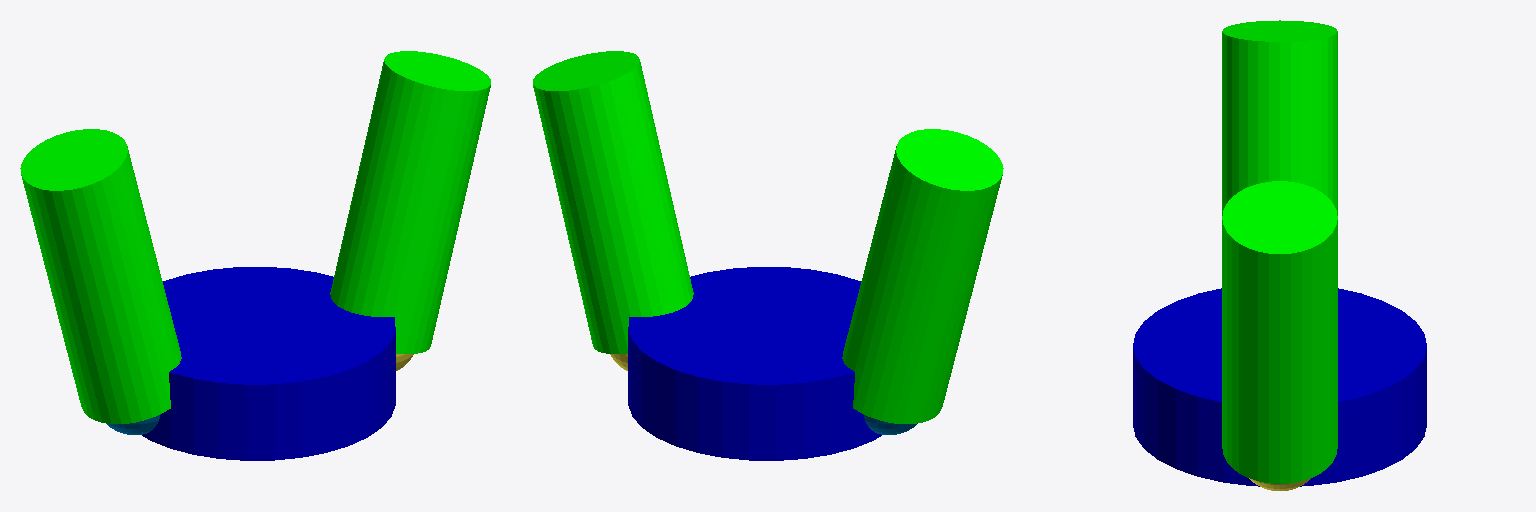
robot.urdf — gripper_2f_1j:
<?xml version='1.0' encoding='UTF-8'?>
<robot name="gripper_2f_1j">
  <link name="palm">
    <inertial>
      <origin xyz="0.0 0.0 0.0" rpy="0.0 -0.0 0.0"/>
      <mass value="1.0"/>
      <inertia ixx="1.0" ixy="0.0" ixz="0.0" iyy="1.0" iyz="0.0" izz="1.0"/>
    </inertial>
    <visual>
      <geometry>
        <cylinder radius="0.05" length="0.03"/>
      </geometry>
      <material name="blue"/>
      <origin xyz="0.0 0.0 0.0" rpy="0.0 -0.0 0.0"/>
    </visual>
    <collision>
      <geometry>
        <cylinder radius="0.05" length="0.03"/>
      </geometry>
      <origin xyz="0.0 0.0 0.0" rpy="0.0 0.0 0.0"/>
    </collision>
  </link>
  <link name="f11">
    <inertial>
      <origin xyz="0.0 0.0 0.0" rpy="0.0 -0.0 0.0"/>
      <mass value="1.0"/>
      <inertia ixx="1.0" ixy="0.0" ixz="0.0" iyy="1.0" iyz="0.0" izz="1.0"/>
    </inertial>
    <visual>
      <geometry>
        <cylinder radius="0.019643981786457196" length="0.1009418164024116"/>
      </geometry>
      <material name="green"/>
      <origin xyz="0.0 0.0 0.0504709082012058" rpy="0.0 -0.0 0.0"/>
    </visual>
    <collision>
      <geometry>
        <cylinder radius="0.019643981786457196" length="0.1009418164024116"/>
      </geometry>
      <origin xyz="0.0 0.0 0.05" rpy="0.0 0.0 0.0"/>
    </collision>
  </link>
  <link name="f21">
    <inertial>
      <origin xyz="0.0 0.0 0.0" rpy="0.0 -0.0 0.0"/>
      <mass value="1.0"/>
      <inertia ixx="1.0" ixy="0.0" ixz="0.0" iyy="1.0" iyz="0.0" izz="1.0"/>
    </inertial>
    <visual>
      <geometry>
        <cylinder radius="0.019643981786457196" length="0.1009418164024116"/>
      </geometry>
      <material name="green"/>
      <origin xyz="0.0 0.0 0.0504709082012058" rpy="0.0 -0.0 0.0"/>
    </visual>
    <collision>
      <geometry>
        <cylinder radius="0.019643981786457196" length="0.1009418164024116"/>
      </geometry>
      <origin xyz="0.0 0.0 0.05" rpy="0.0 0.0 0.0"/>
    </collision>
  </link>
  <link name="f11_base">
    <inertial>
      <origin xyz="0.0 0.0 0.0" rpy="0.0 -0.0 0.0"/>
      <mass value="1.0"/>
      <inertia ixx="1.0" ixy="0.0" ixz="0.0" iyy="1.0" iyz="0.0" izz="1.0"/>
    </inertial>
    <visual>
      <geometry>
        <sphere radius="0.015"/>
      </geometry>
      <origin xyz="0.0 0.0 0.0" rpy="0.0 -0.0 0.0"/>
    </visual>
  </link>
  <link name="f21_base">
    <inertial>
      <origin xyz="0.0 0.0 0.0" rpy="0.0 -0.0 0.0"/>
      <mass value="1.0"/>
      <inertia ixx="1.0" ixy="0.0" ixz="0.0" iyy="1.0" iyz="0.0" izz="1.0"/>
    </inertial>
    <visual>
      <geometry>
        <sphere radius="0.015"/>
      </geometry>
      <origin xyz="0.0 0.0 0.0" rpy="0.0 -0.0 0.0"/>
    </visual>
  </link>
  <joint name="f11_joint" type="revolute">
    <dynamics damping="100.0" friction="1.0"/>
    <limit effort="30.0" velocity="2.0" lower="-0.6" upper="0.25"/>
    <parent link="f11_base"/>
    <child link="f11"/>
    <axis xyz="0. 1. 0."/>
    <origin xyz="0.0 0.0 0.0" rpy="0.0 0.25 0.0"/>
  </joint>
  <joint name="f21_joint" type="revolute">
    <dynamics damping="100.0" friction="1.0"/>
    <limit effort="30.0" velocity="2.0" lower="-0.6" upper="0.25"/>
    <parent link="f21_base"/>
    <child link="f21"/>
    <axis xyz=" 0. -1.  0."/>
    <origin xyz="0.0 0.0 0.0" rpy="0.0 -0.25 0.0"/>
  </joint>
  <joint name="f11_base_joint" type="fixed">
    <parent link="palm"/>
    <child link="f11_base"/>
    <axis xyz="1. 0. 0."/>
    <origin xyz="0.05 0.0 0.0" rpy="0.0 0.0 0.0"/>
  </joint>
  <joint name="f21_base_joint" type="fixed">
    <parent link="palm"/>
    <child link="f21_base"/>
    <axis xyz="1. 0. 0."/>
    <origin xyz="-0.05 -0.0 0.0" rpy="0.0 0.0 0.0"/>
  </joint>
  <material name="blue">
    <color rgba="0.  0.  0.8 1. "/>
  </material>
  <material name="green">
    <color rgba="0. 1. 0. 1."/>
  </material>
</robot>

--- Facts derived from the render (not from the file) ---
Views: 3 orthographic renders of the robot side by side, from view 1: azimuth 30°, elevation 25°; view 2: azimuth 150°, elevation 25°; view 3: azimuth 270°, elevation 25°.
Robot: gripper_2f_1j — 5 links, 4 joints (2 revolute, 2 fixed); root link palm; default pose: all joints at 0.
Visible links, largest first — view 1: palm, f21, f11, f21_base; view 2: palm, f21, f11, f21_base; view 3: f11, palm, f21.
Link boxes in pixels (x1=…): palm: x1=142, y1=267, x2=395, y2=460; f21: x1=20, y1=129, x2=181, y2=423; f11: x1=330, y1=51, x2=490, y2=353; f21_base: x1=106, y1=414, x2=160, y2=434; palm: x1=628, y1=267, x2=881, y2=460; f21: x1=842, y1=129, x2=1003, y2=423; f11: x1=533, y1=51, x2=693, y2=353; f21_base: x1=863, y1=414, x2=917, y2=434; f11: x1=1222, y1=181, x2=1337, y2=483; palm: x1=1133, y1=288, x2=1426, y2=486; f21: x1=1222, y1=20, x2=1337, y2=215.
Bounding box of the posed robot: 0.188 × 0.1 × 0.1177 m (x, y, z).
Geometry: primitives only (box / cylinder / sphere), no mesh files.